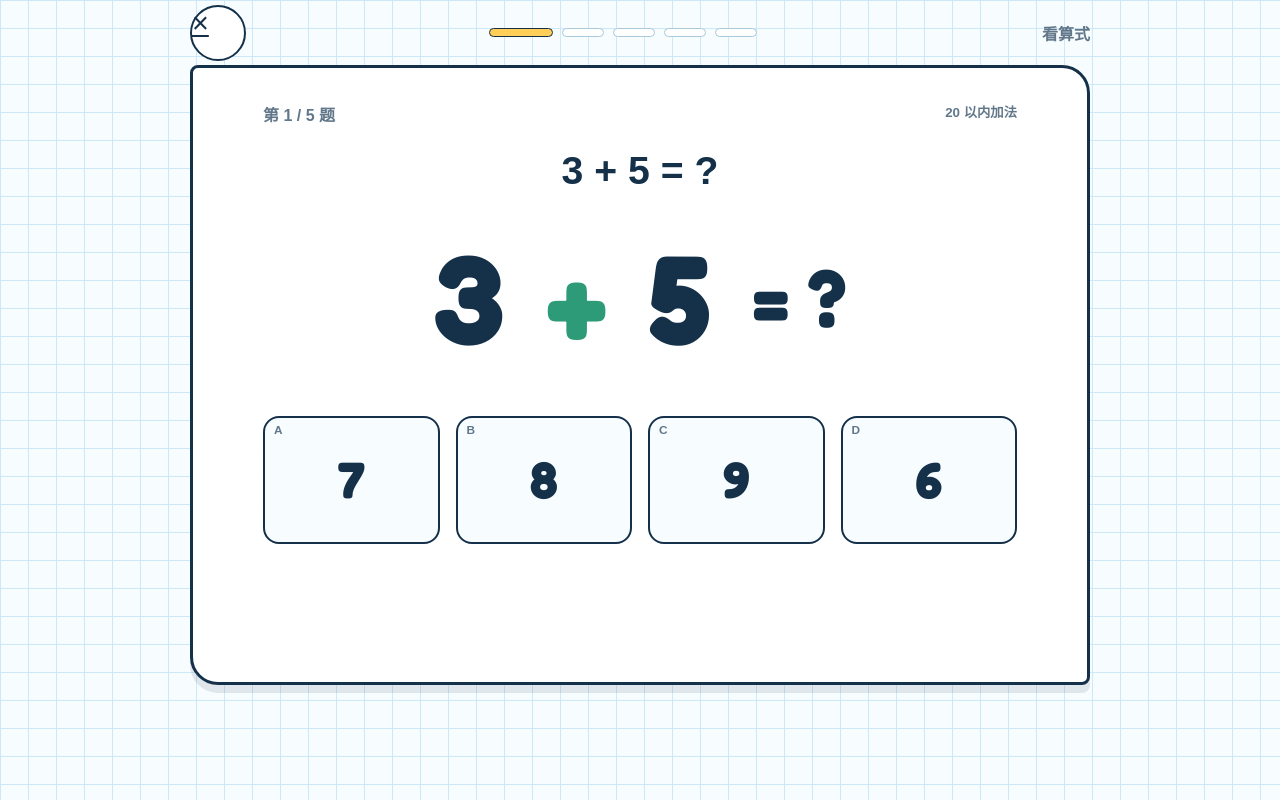
Scenario: local question type practice › moves to the next equation after a correct answer
This screenshot has width=1280, height=800.
Click the button "B 8": (544, 480) [456,416,632,544]
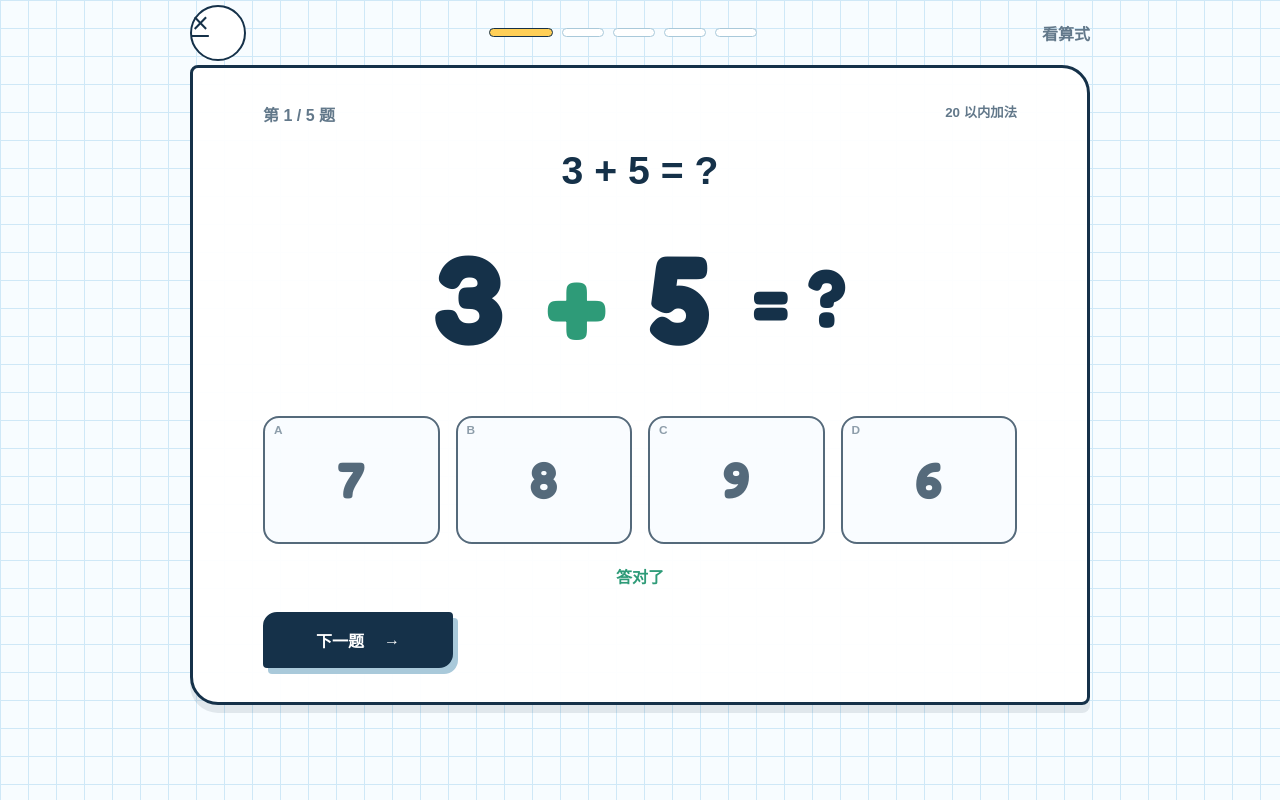
Expected: the text "答对了" is shown, [616,569,664,586]
Click the button "下一题 →": (358, 640) [263,612,453,668]
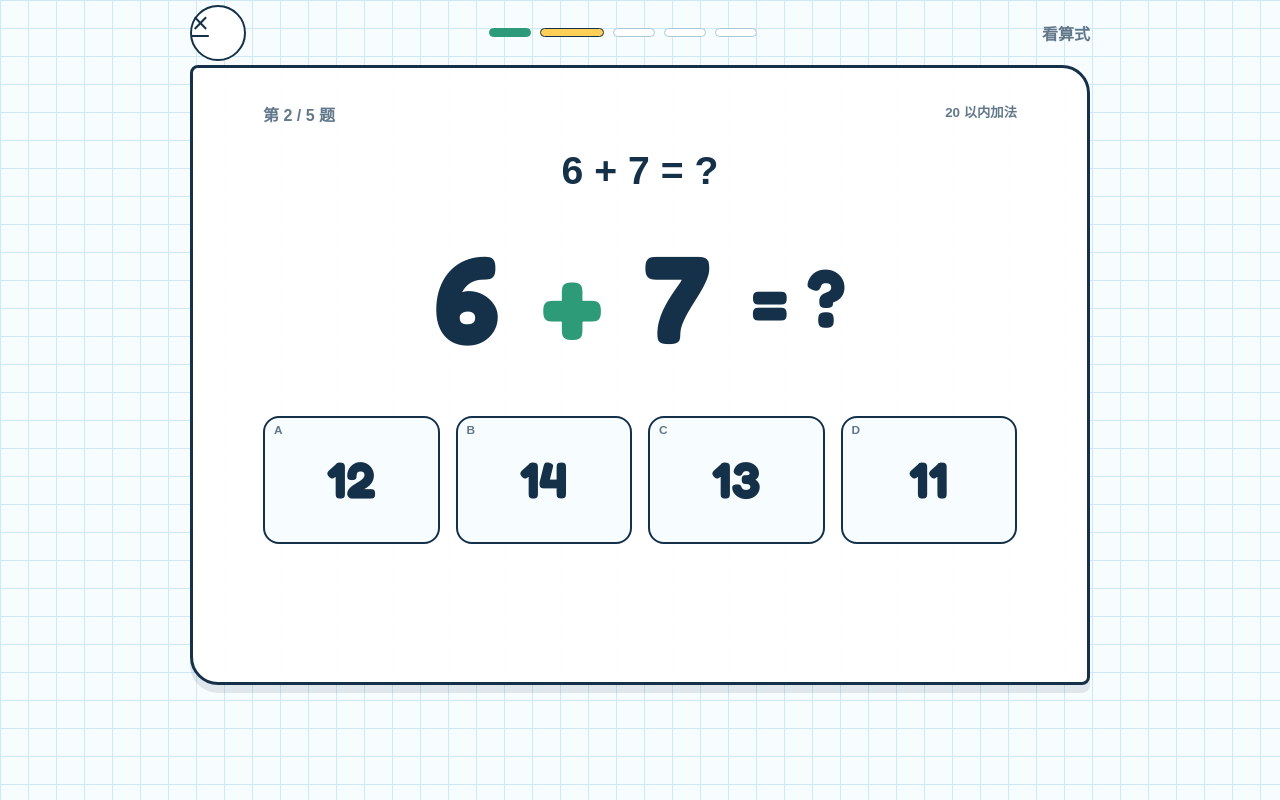
Expected: the heading "6 + 7 = ?" is shown, [562,149,718,192]
